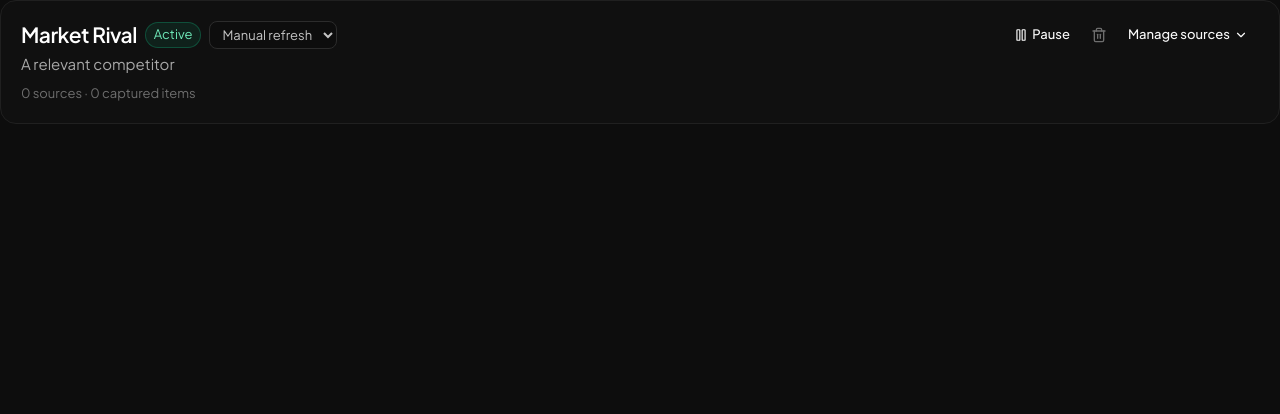
Test: competitor source console › keeps large competitor details collapsed until the user opens them
Check: the text "Mini Vault:" is not shown
Click the button "Manage sources": (1188, 35) [1117,21,1259,49]
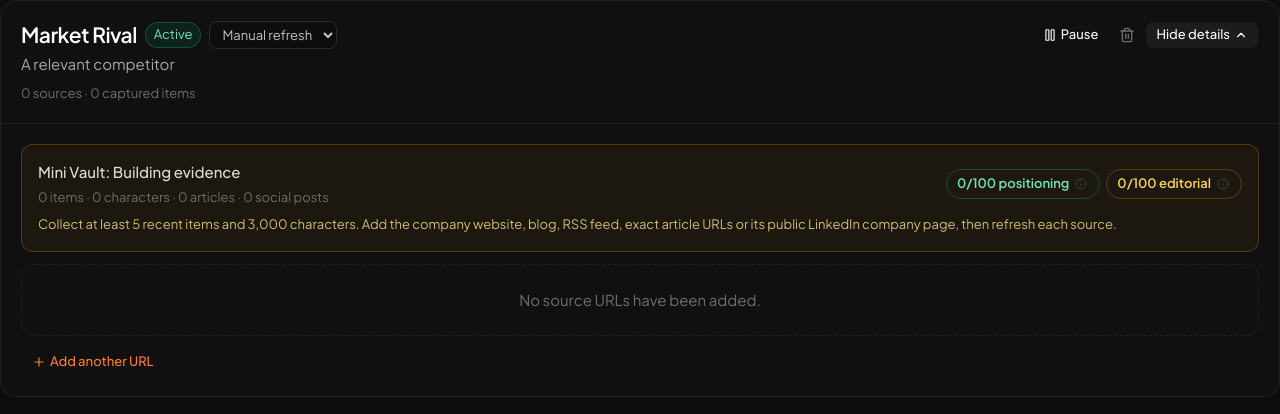
Check: the text "Mini Vault: Building evidence" is shown, box [38,162,241,181]
Check: the button "Hide details" is expanded, box [1145,21,1259,49]
